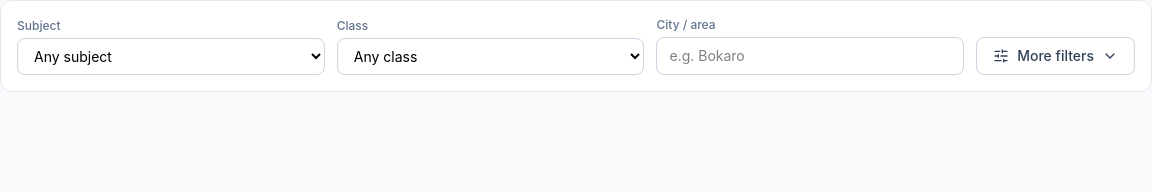
Test: FilterBar › hides secondary filters by default and reveals them on click
The width and height of the screenshot is (1152, 192).
Expected: the text "Board" is not shown
Click the button "More filters": coordinates (1056, 56) [976,37,1135,75]
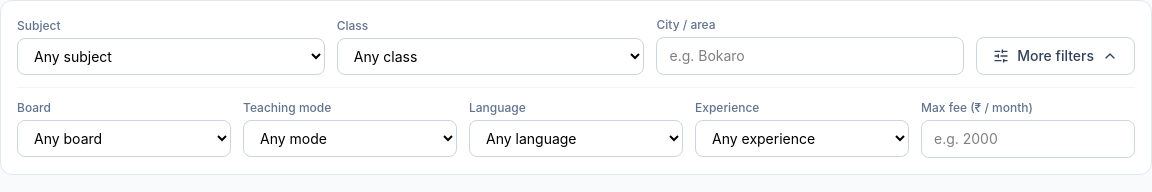
Result: the text "Board" is shown at [17,100,51,115]
